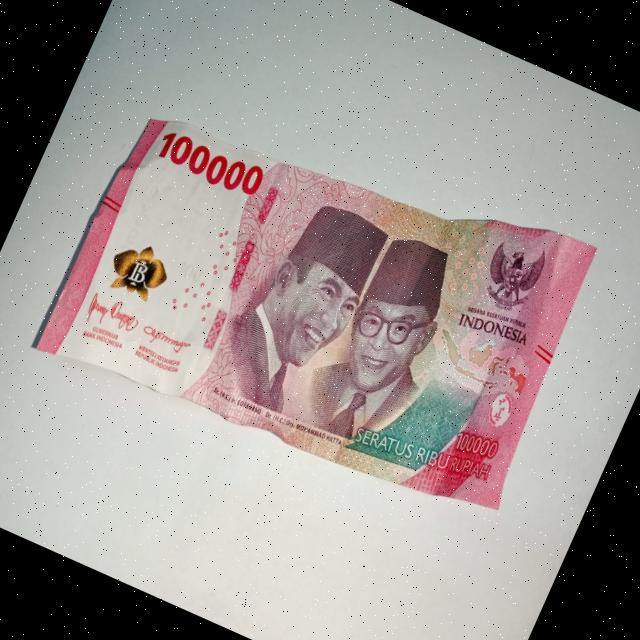100K: (26, 49, 620, 555)
